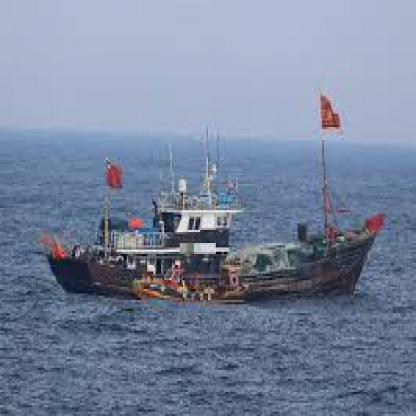fish-b: (38, 85, 392, 309)
